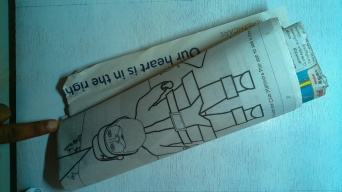p: (59, 16, 326, 176)
